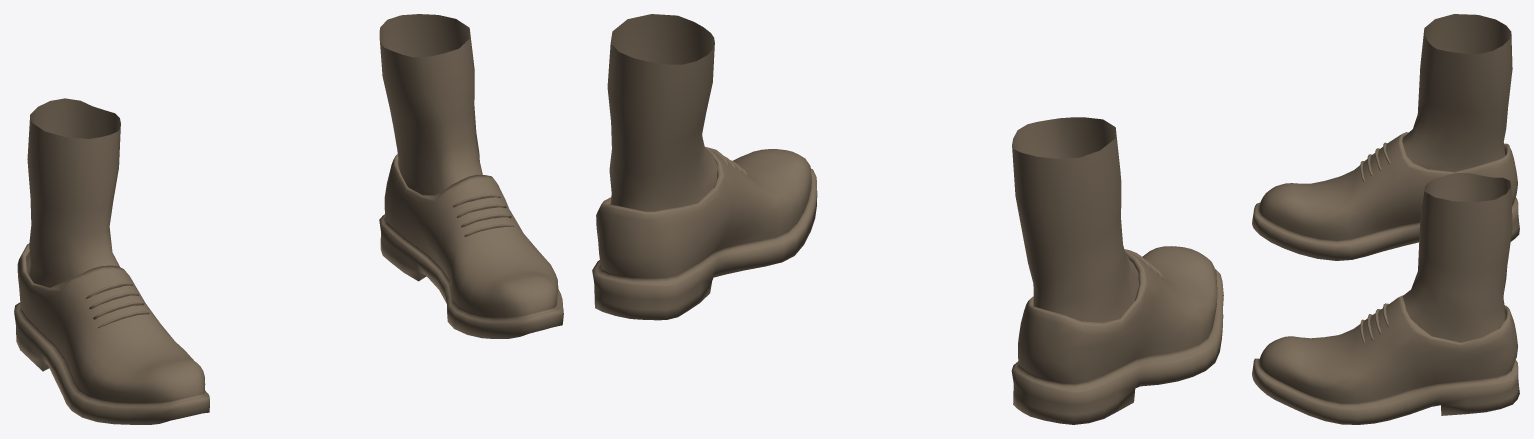
The model's file is shoes03.glb.
3 views of the same model, side by side, from view 1: azimuth 30°, elevation 25°; view 2: azimuth 150°, elevation 25°; view 3: azimuth 270°, elevation 25° (orthographic). The views are drawn at different scales.
Visible parts, largest first — view 1: shoes03; view 2: shoes03; view 3: shoes03.
Boxes of the visible parts, box(x1,y1,x2,y2) form: shoes03: box(14, 14, 563, 424); shoes03: box(592, 14, 1223, 424); shoes03: box(1252, 14, 1519, 424).
Size of the model in its own units: 0.4963 by 0.2334 by 0.2669.
